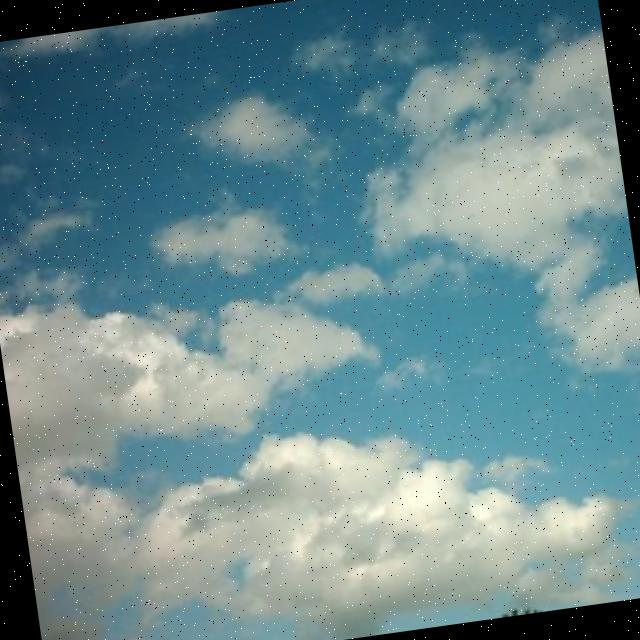Cu: (1, 51, 640, 562)
